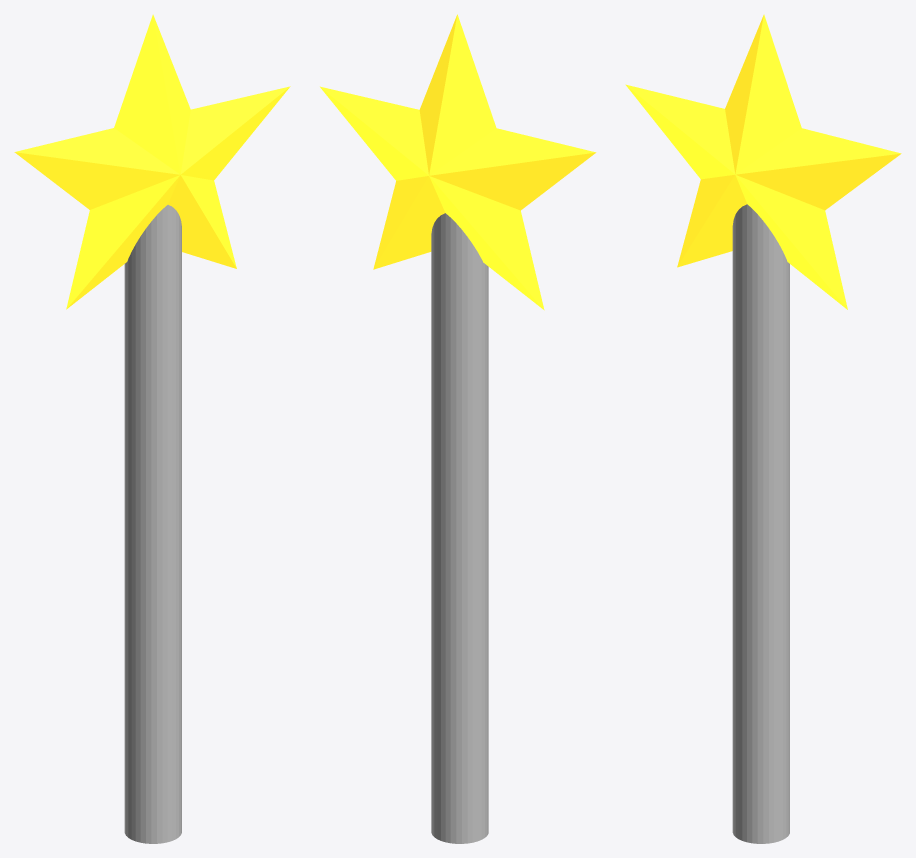
File: StarredPin.gltf
3 views of the same model, side by side, from view 1: azimuth 30°, elevation 25°; view 2: azimuth 150°, elevation 25°; view 3: azimuth 330°, elevation 25° (orthographic).
Parts seen in each view (by area): view 1: Cylinder, pCylinder1; view 2: Cylinder, pCylinder1; view 3: Cylinder, pCylinder1.
Part boxes in pixels (<box>): Cylinder: <box>124,205,181,843</box>; pCylinder1: <box>14,14,290,309</box>; Cylinder: <box>431,213,488,843</box>; pCylinder1: <box>320,14,596,310</box>; Cylinder: <box>732,204,789,843</box>; pCylinder1: <box>625,14,901,309</box>.
Bounding box in the file's own units: 1.31 × 3.7 × 0.468.
